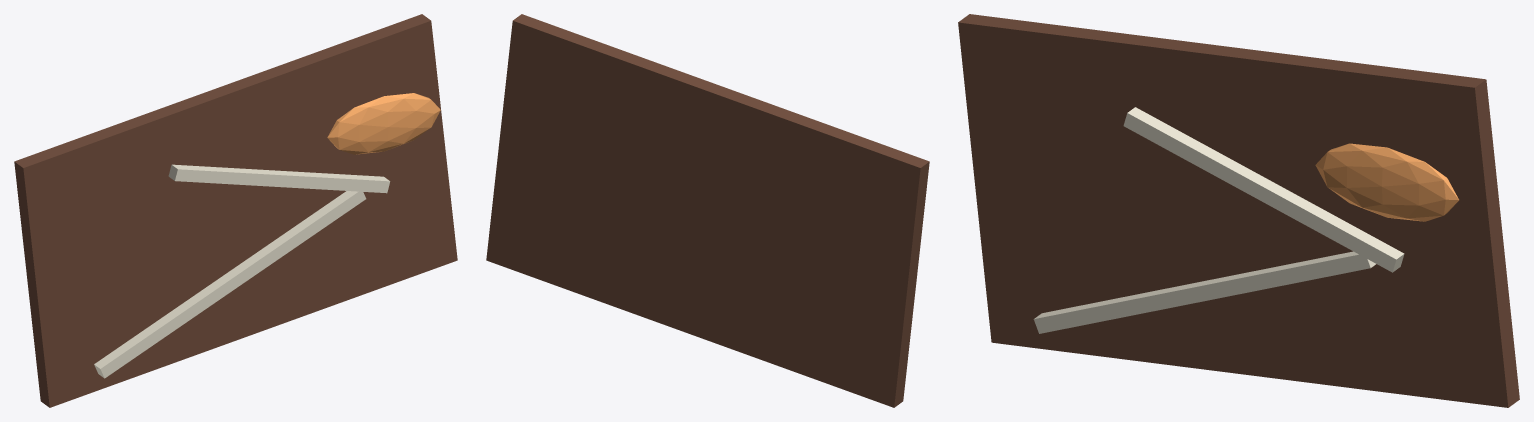
File: 02_weathering_wear_overlay_2.glb
3 renders of one model, left to right at view 1: azimuth 30°, elevation 25°; view 2: azimuth 150°, elevation 25°; view 3: azimuth 330°, elevation 25°, orthographic. The views are drawn at different scales.
Parts seen in each view (by area): view 1: wear_plate, scratch_a, rust_or_moss_spot, scratch_b; view 2: wear_plate; view 3: wear_plate, rust_or_moss_spot, scratch_b, scratch_a.
Boxes of the visible parts, box(x1,y1,x2,y2) form: wear_plate: box(14, 14, 457, 407); scratch_a: box(94, 191, 366, 378); rust_or_moss_spot: box(327, 93, 440, 154); scratch_b: box(168, 164, 390, 193); wear_plate: box(486, 14, 929, 407); wear_plate: box(958, 14, 1519, 407); rust_or_moss_spot: box(1315, 143, 1458, 221); scratch_b: box(1123, 107, 1404, 272); scratch_a: box(1033, 251, 1375, 333).
Size of the model in its own units: 1.38 by 0.8905 by 0.134.
